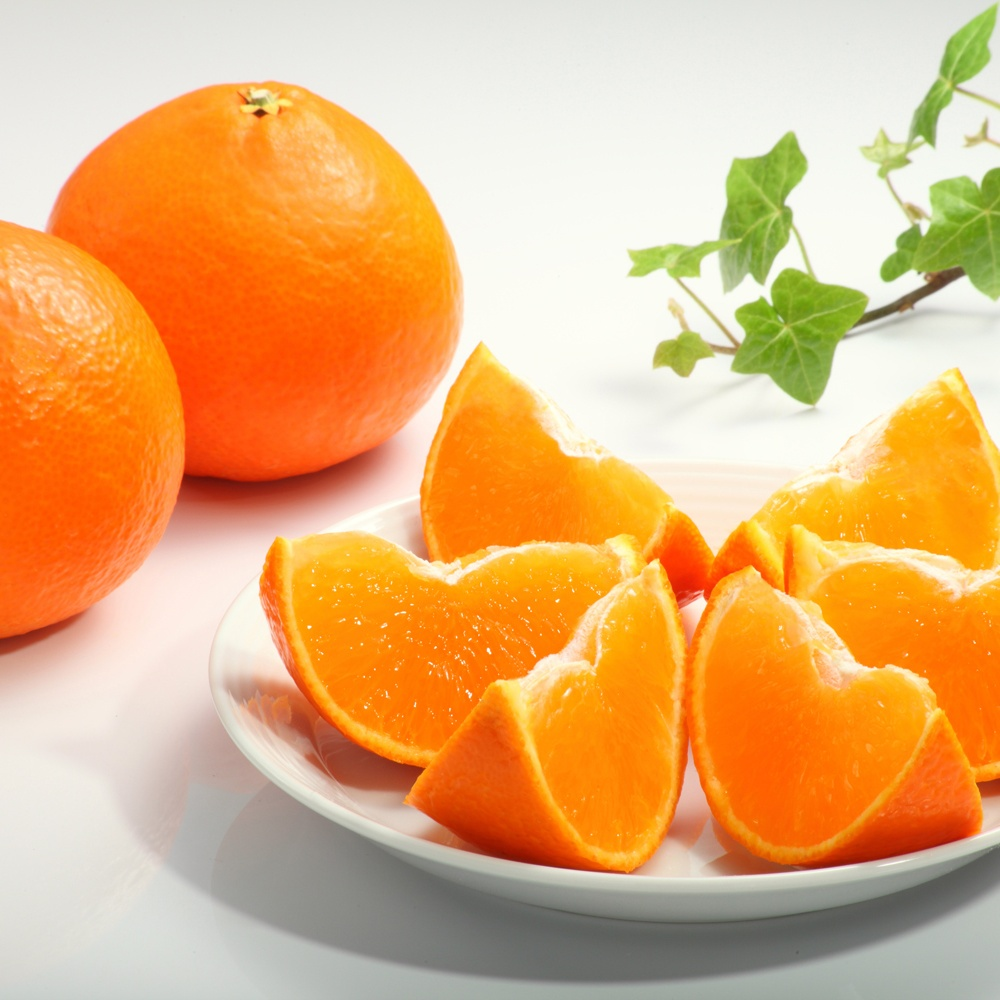mandarin: (47, 78, 462, 481), (255, 530, 654, 783), (407, 562, 688, 881), (692, 560, 981, 862), (1, 219, 184, 640), (419, 346, 721, 594), (713, 369, 1000, 605), (781, 519, 1000, 777)
